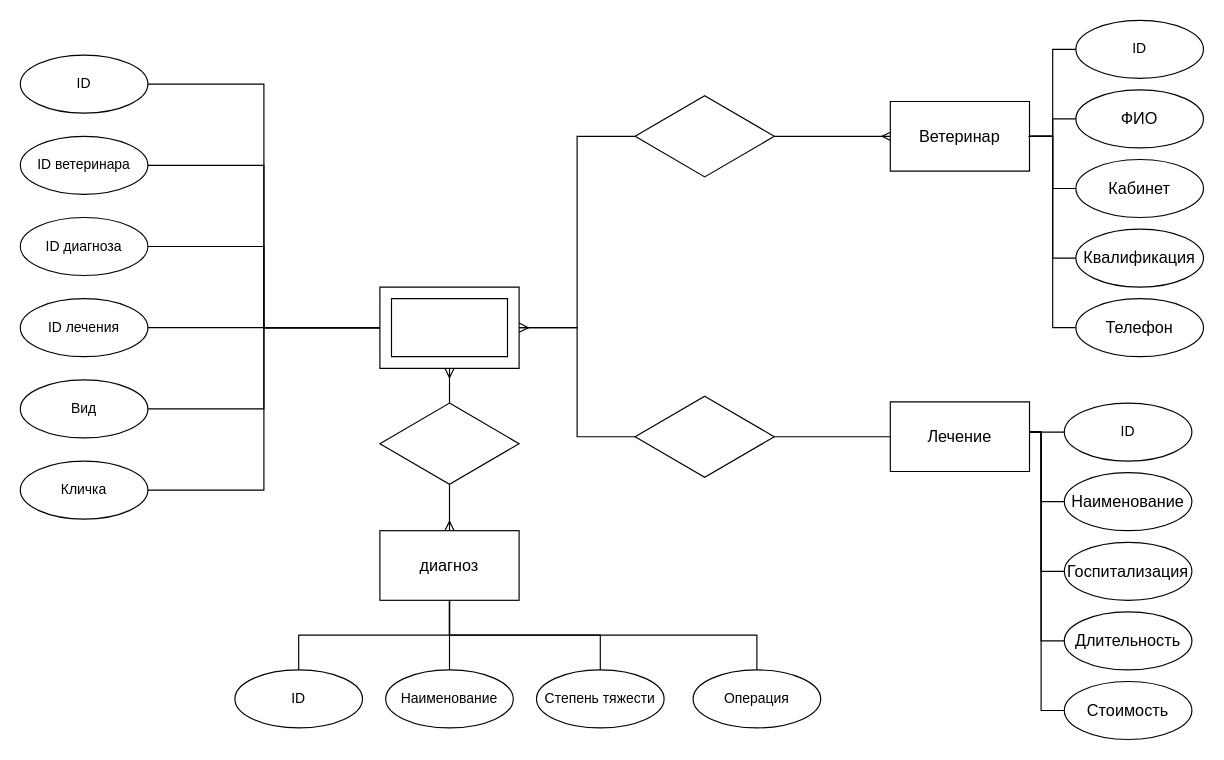
This 1224x760 diagram has some shape labels left out. The shapes that lost their labels are listed below. From the top down, each one's centre as x and y in pixels, then its label:
point (704, 136): лечит
point (449, 327): Животное
point (449, 443): ставится
point (704, 436): назначается
